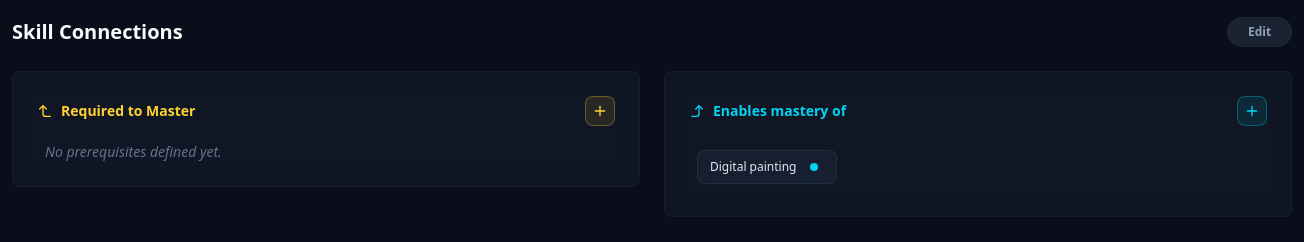
Test case: SkillLinksSection › Editing skills links › switches to editing mode if 'Edit' button is clicked
The width and height of the screenshot is (1304, 242).
Check: the link "Digital painting" is shown, box [710, 159, 796, 175]
Click the button "Edit" at coordinates (1260, 32), box [1227, 17, 1292, 47]
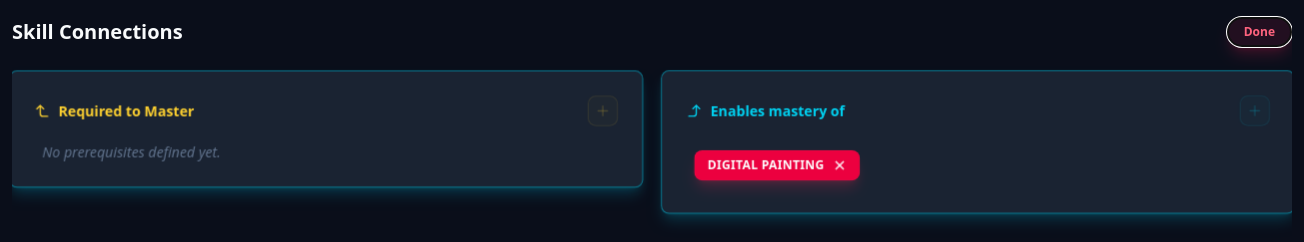
Check: the button with aria-label "remove link to digital painting" is shown, box [694, 150, 860, 180]
Check: the button named "Exit edit mode to add prerequisite links" is disabled, box [588, 96, 618, 126]
Check: the button named "Exit edit mode to add outgoing skill links" is disabled, box [1240, 96, 1270, 126]
